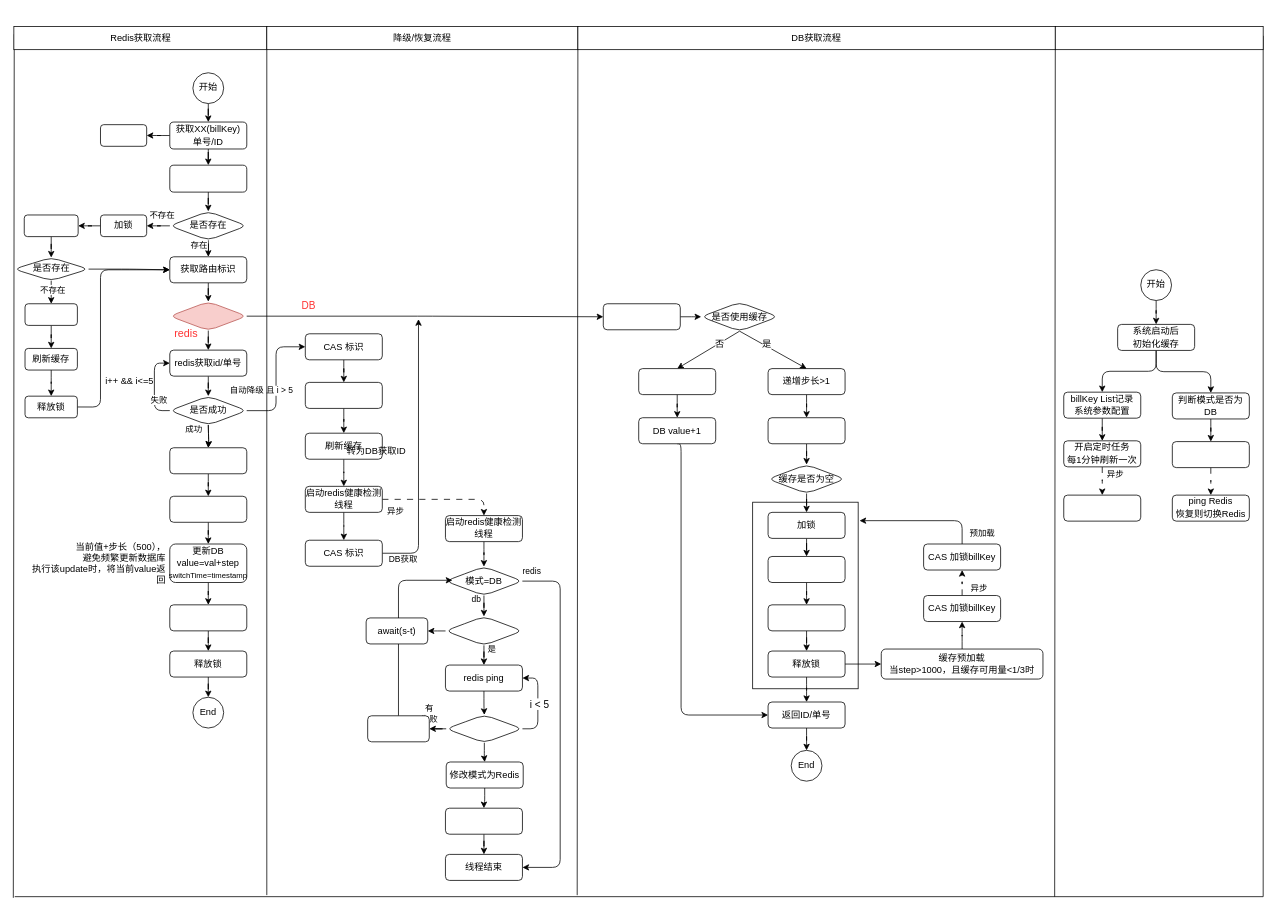
Some shapes in this 1278 by 918 pixel diagram are drawn without their labels. The shapes that lost their labels are listed below. From the top down, each one's centre as x and y in pixels, then its label:
At [1159,38]: "辅助线程".
At [123,135]: "JVM缓存".
At [208,178]: "判断billKey 是否存在".
At [50,225]: "二次检查".
At [50,314]: "插入billKey".
At [208,316]: "选择模式".
At [641,316]: "判断模式=DB".
At [343,395]: "修改模式为DB".
At [677,381]: "递增步长=1".
At [806,430]: "通过billKey从缓存中获取value".
At [208,460]: "当前值>=缓存中该billKey的值".
At [1210,454]: "开启异步任务 Redis健康检查".
At [208,508]: "该billKey加锁".
At [1102,507]: "刷新billKey List 刷新系统参数".
At [806,569]: "DB value+ step".
At [208,617]: "放入缓存".
At [483,630]: "switchTime-timestamp<0".
At [806,617]: "将value循环放入Queue".
At [398,728]: "await(1小时)".
At [483,728]: "连续5次成功".
At [483,820]: "更新缓存".
